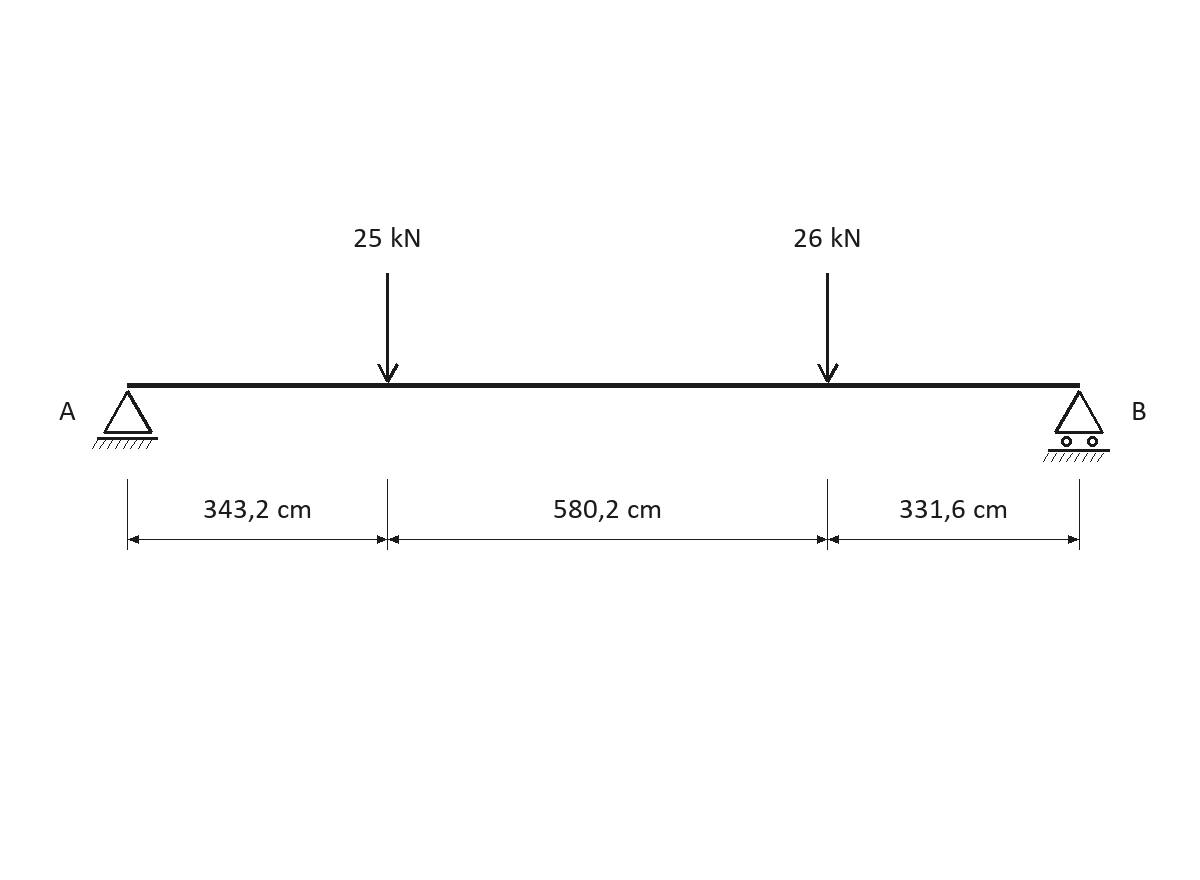pin_support: (92, 390, 158, 449)
point_load: (377, 273, 399, 383), (817, 273, 839, 383)
roller_support: (1043, 390, 1110, 462)
